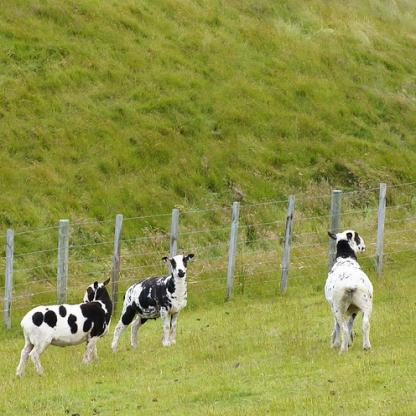sheep: (15, 277, 112, 375), (112, 253, 196, 351), (324, 230, 372, 352)
